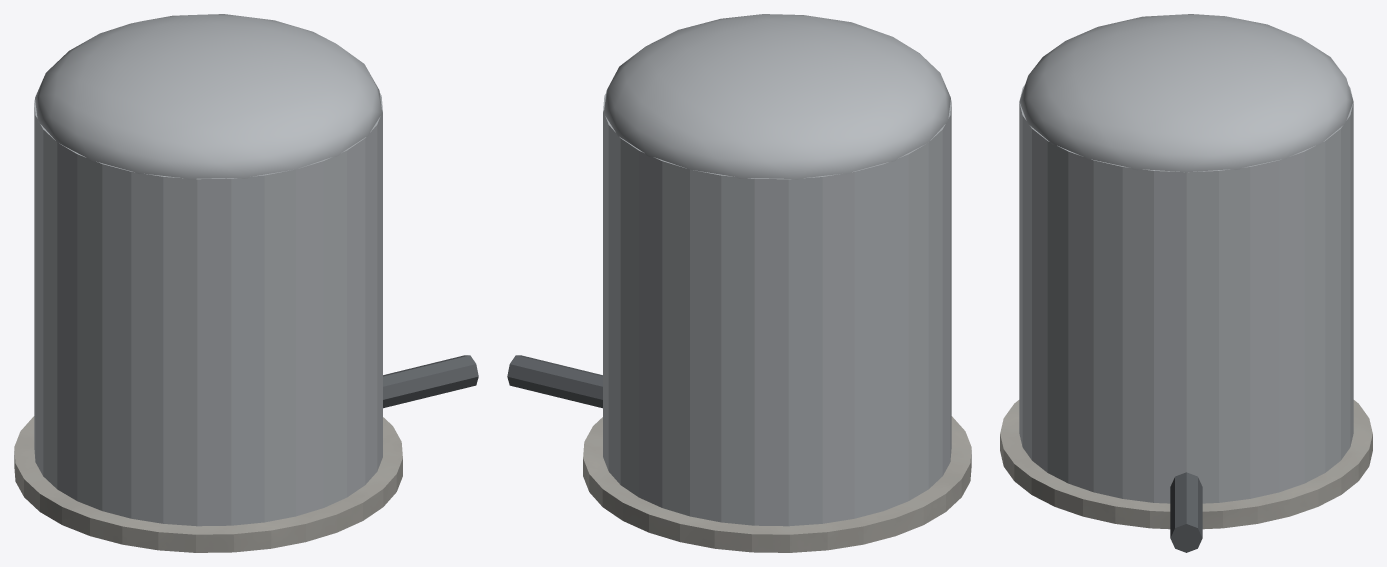
Rendered from pv_nadrz_mala.glb.
The picture shows the model from 3 angles, left to right: view 1: azimuth 30°, elevation 25°; view 2: azimuth 150°, elevation 25°; view 3: azimuth 270°, elevation 25°; orthographic projection. The views are drawn at different scales.
Visible parts, largest first — view 1: dum; view 2: dum; view 3: dum.
Part boxes in pixels (left/top/right/bottom): dum: left=14, top=14, right=478, bottom=552; dum: left=507, top=14, right=971, bottom=552; dum: left=1000, top=14, right=1372, bottom=552.
Size of the model in its own units: 7.38 by 6.89 by 5.79.
1 material, 1 textured.
